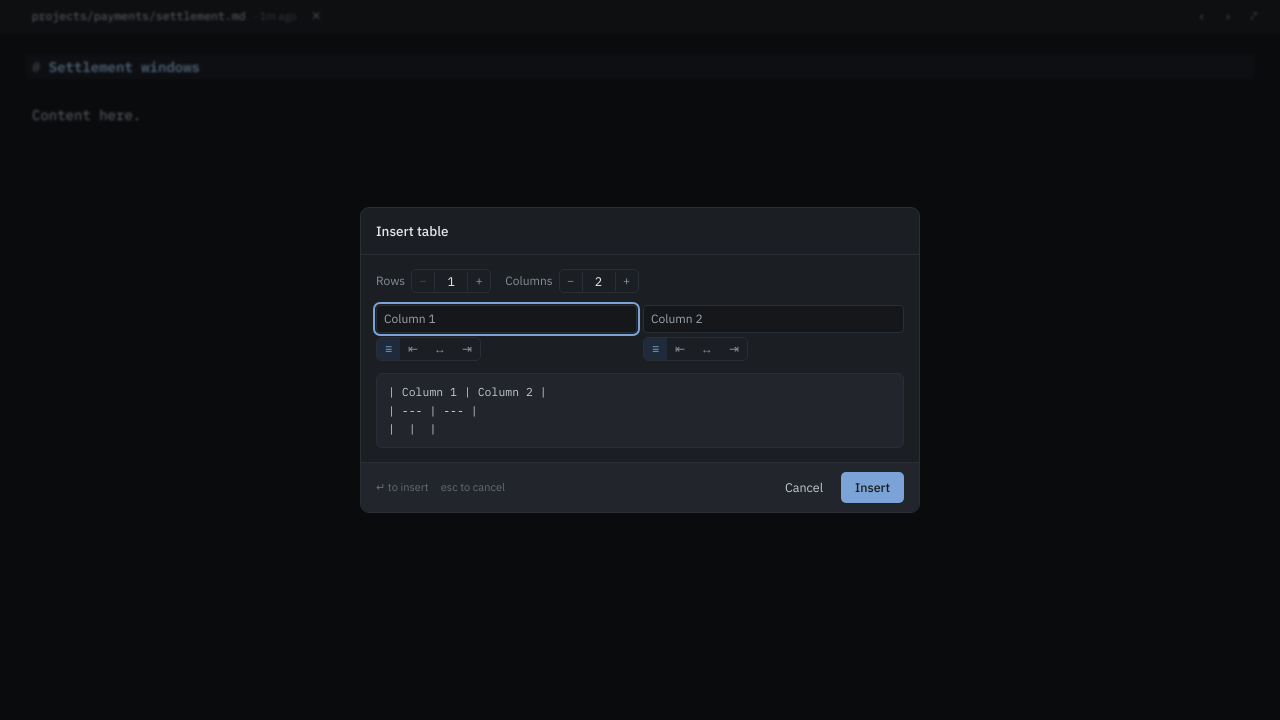
Test: Table builder (M10.08) › opens via editor.insert_table_builder and inserts a blank 2x1 table at the cursor
expect the dialog "Insert table" is shown: met, box [360,207,920,513]
Step 1. Click the button "Insert" → (872, 488), box [841,472,904,503]
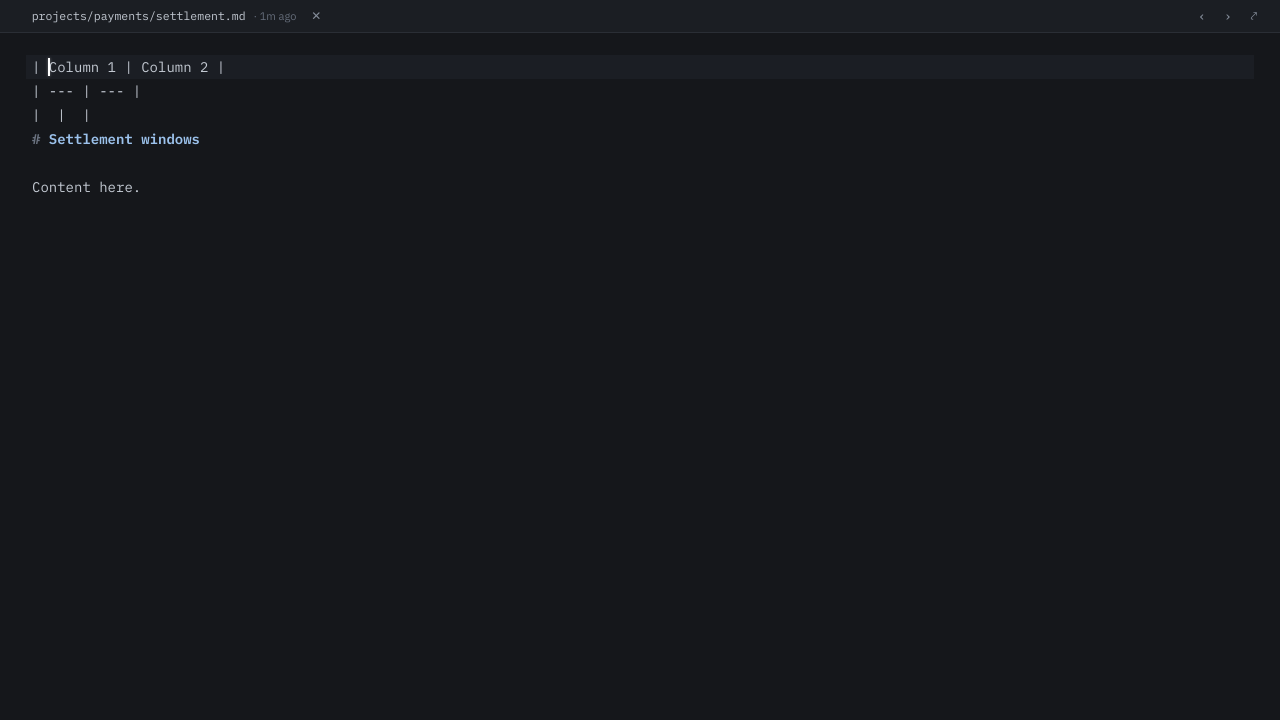
expect the text "Insert table" is gone: met
